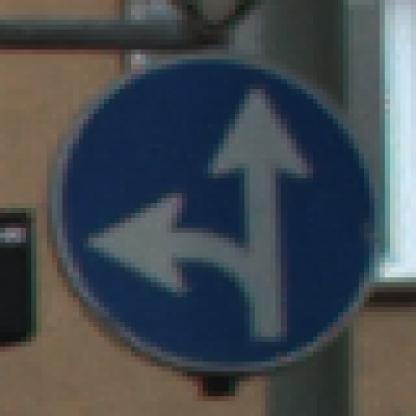Straight or Left: (38, 36, 381, 382)
